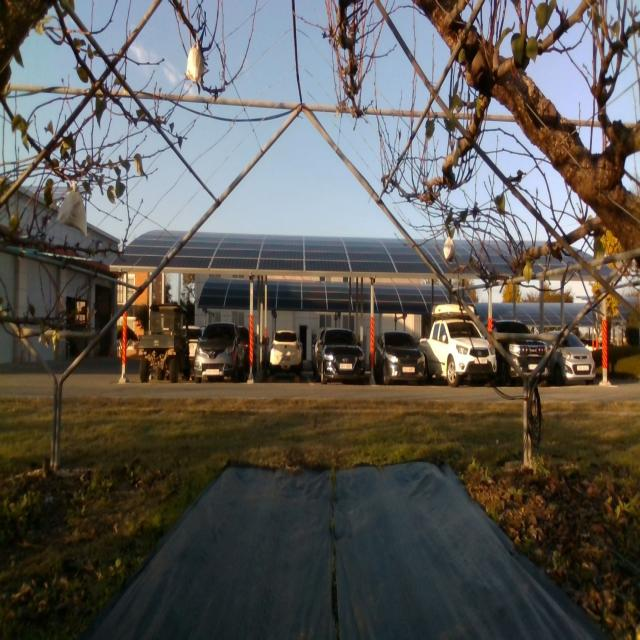pearbags: (57, 191, 87, 236), (187, 44, 204, 82), (442, 237, 454, 262)
